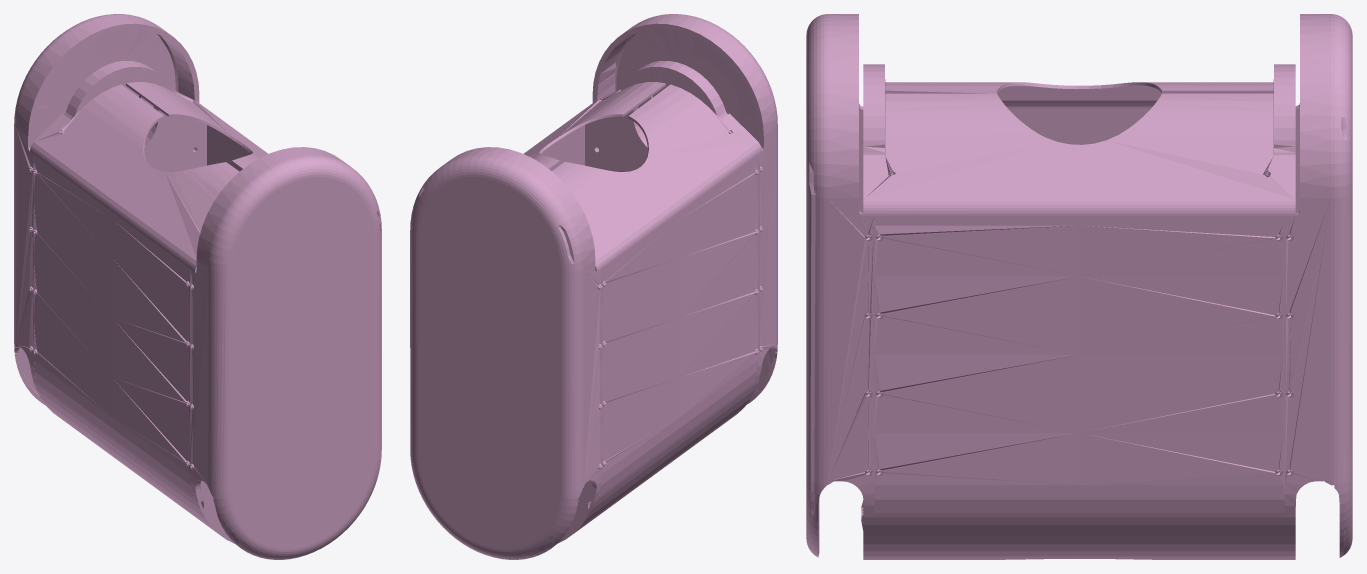
The picture shows the model from 3 angles, left to right: view 1: azimuth 30°, elevation 25°; view 2: azimuth 150°, elevation 25°; view 3: azimuth 270°, elevation 25°; orthographic projection. The views are drawn at different scales.
Parts seen in each view (by area): view 1: T2R3_TJ2; view 2: T2R3_TJ2; view 3: T2R3_TJ2.
Part boxes in pixels (x1,y1,x2,y2): T2R3_TJ2: [14, 14, 381, 559]; T2R3_TJ2: [410, 14, 777, 559]; T2R3_TJ2: [806, 14, 1352, 559].
Bounding box in the file's own units: 0.1168 × 0.2409 × 0.2538.
